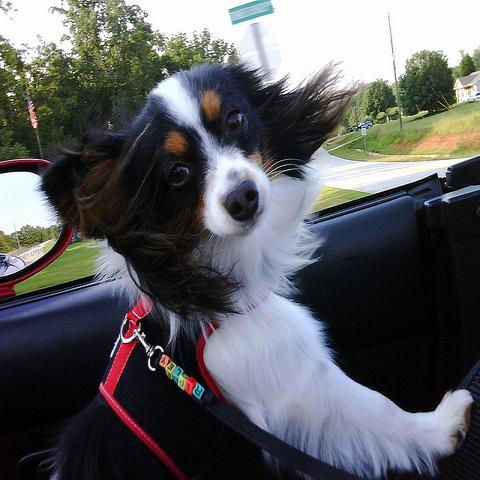car: (4, 153, 478, 473), (354, 119, 374, 132)
